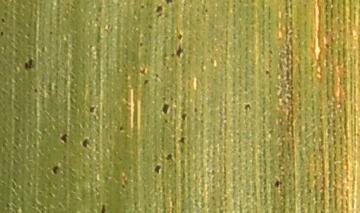tarspot: (175, 42, 184, 59), (23, 57, 34, 70), (58, 132, 69, 145), (179, 111, 189, 123), (161, 103, 170, 115), (164, 152, 173, 163), (175, 30, 184, 41), (264, 69, 273, 80), (51, 164, 60, 174), (81, 137, 89, 148), (153, 164, 161, 175), (87, 105, 96, 114), (177, 136, 186, 145), (274, 179, 282, 189), (99, 203, 107, 213), (155, 5, 164, 13), (244, 103, 252, 111), (142, 78, 150, 86), (323, 42, 330, 50), (118, 125, 125, 133), (146, 23, 153, 30), (162, 117, 169, 124), (1, 17, 7, 24), (139, 4, 145, 10), (138, 41, 144, 47), (47, 30, 54, 35), (33, 88, 38, 94), (163, 1, 173, 4), (1, 30, 5, 37)
